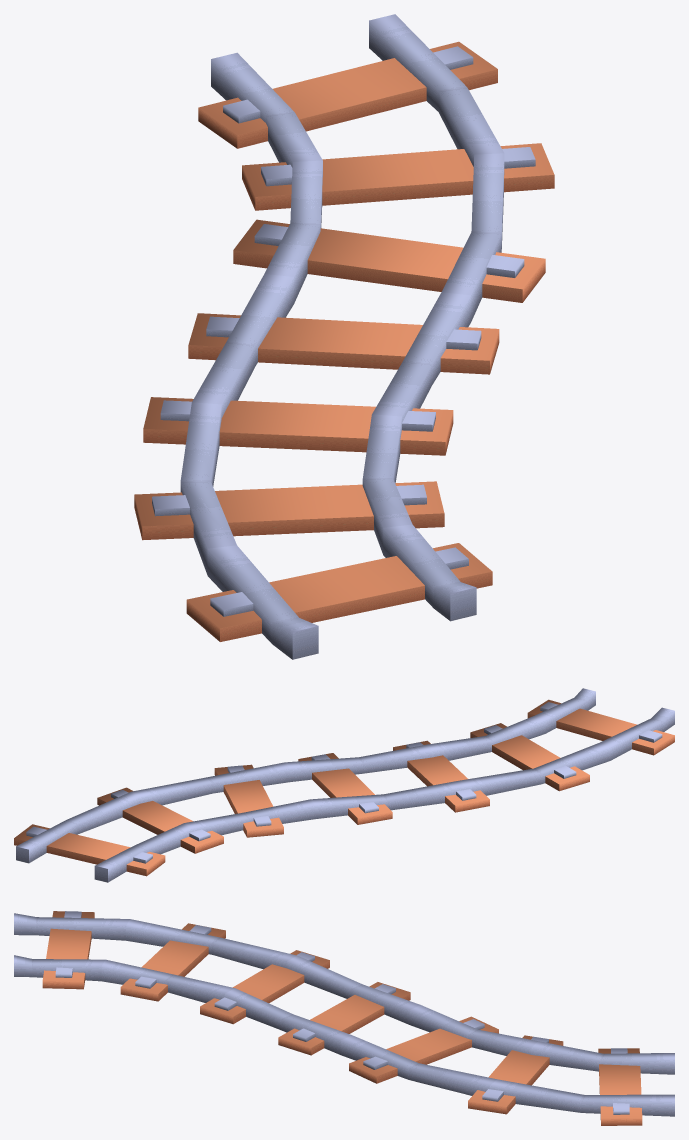
Rendered from railroad-damaged-curve.glb.
The picture shows the model from 3 angles, top to bottom: view 1: azimuth 30°, elevation 25°; view 2: azimuth 150°, elevation 25°; view 3: azimuth 270°, elevation 25°; orthographic projection. The views are drawn at different scales.
Visible parts, largest first — view 1: railroad-damaged-curve; view 2: railroad-damaged-curve; view 3: railroad-damaged-curve.
Part boxes in pixels (x1,y1,x2,y2): railroad-damaged-curve: (134, 14, 554, 659); railroad-damaged-curve: (14, 688, 674, 882); railroad-damaged-curve: (14, 911, 674, 1125).
Size of the model in its own units: 2.97 by 0.1 by 4.
Materials: 1 (1 with a texture image).
